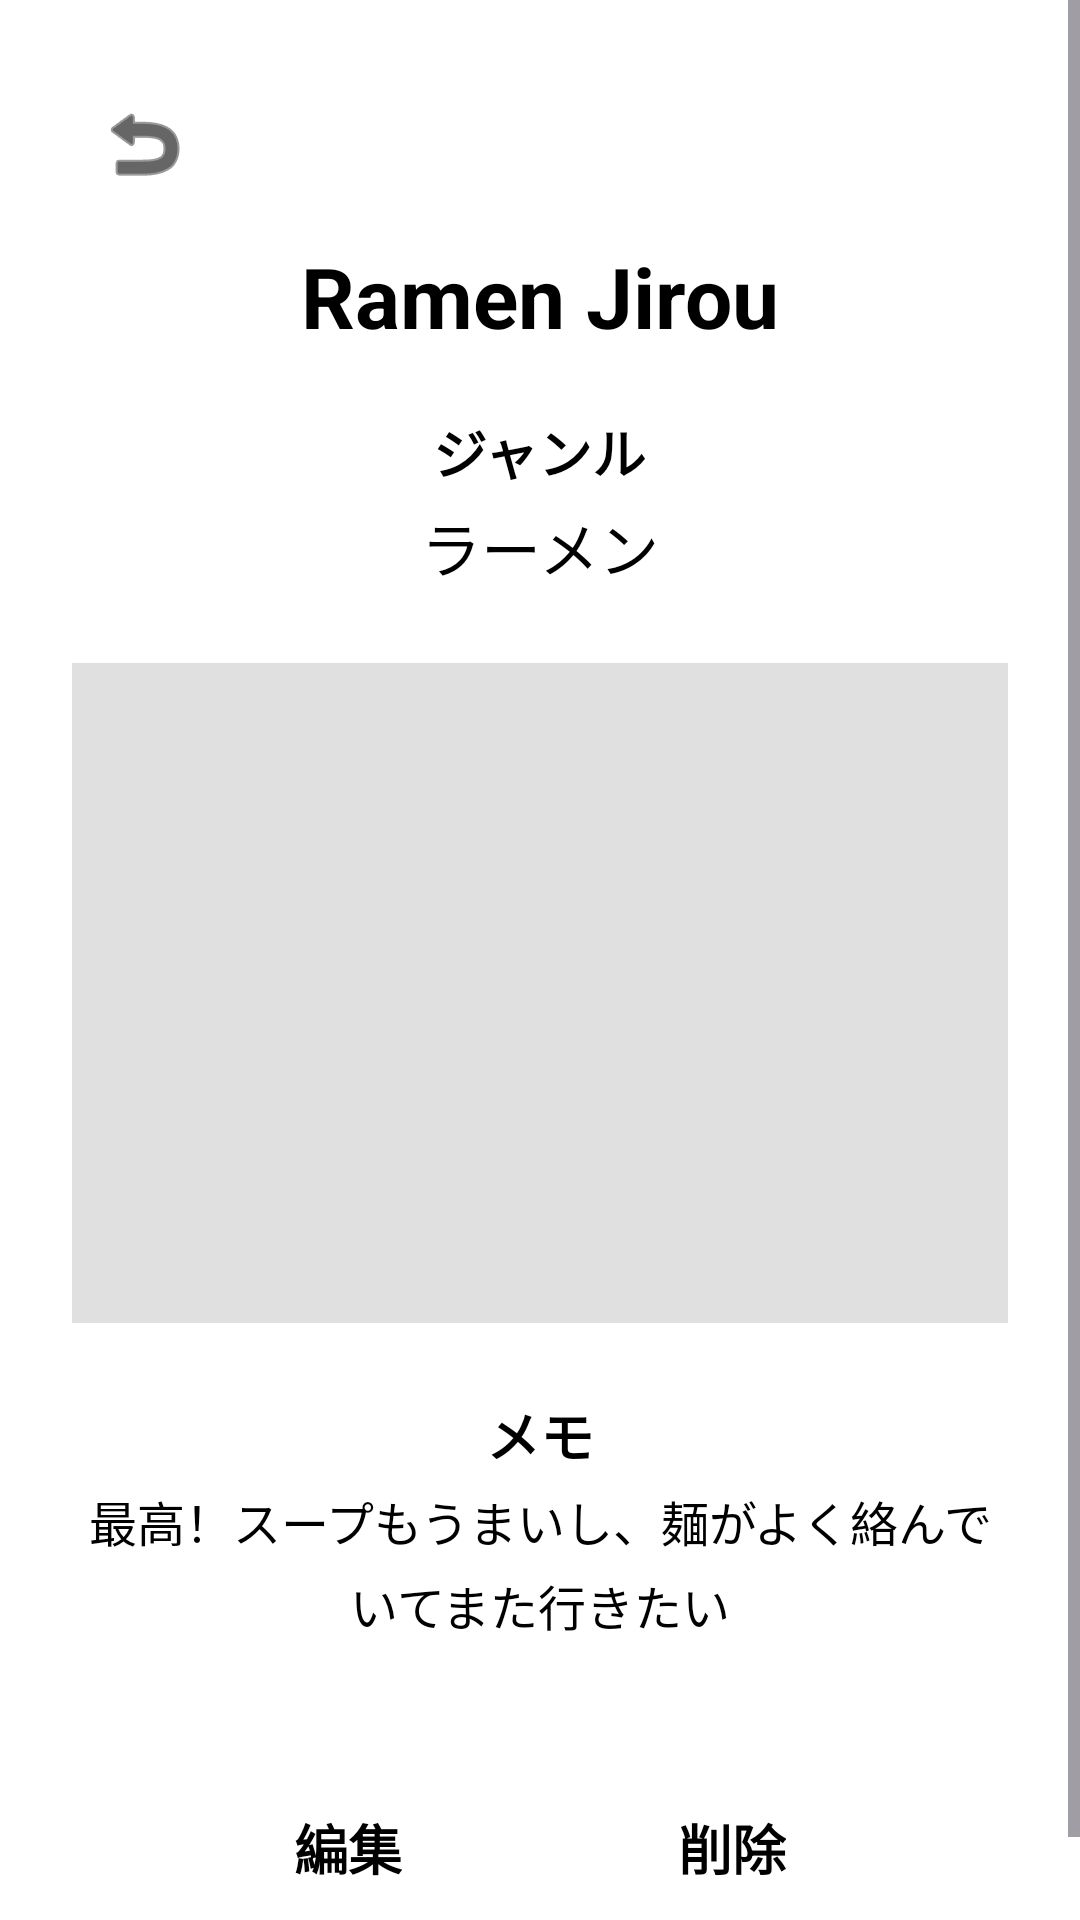

Locate icon controls on the screen. Image size 1080 x 1920, boxes as {"x1": x1, "y1": y1, "x2": x2, "y2": y2}.
戻る: {"x1": 111, "y1": 113, "x2": 180, "y2": 176}
